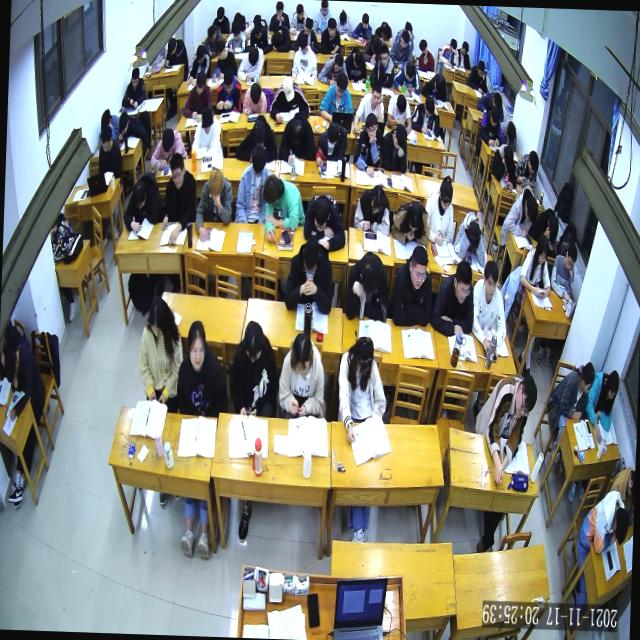bow: (259, 171, 306, 247), (302, 189, 348, 250), (122, 170, 162, 237), (277, 110, 318, 168), (235, 110, 279, 163), (389, 196, 432, 248), (269, 72, 311, 125), (452, 209, 489, 267), (501, 184, 538, 238), (148, 125, 189, 173), (316, 50, 348, 86), (392, 59, 421, 98), (530, 204, 560, 240), (115, 109, 146, 142), (420, 71, 448, 104), (477, 88, 505, 117), (164, 36, 188, 68), (360, 31, 384, 63), (270, 22, 292, 56), (372, 15, 392, 44)
down: (1, 332, 47, 422), (288, 331, 313, 379), (513, 372, 538, 419), (242, 318, 265, 366), (145, 296, 169, 340), (451, 258, 473, 304), (353, 334, 374, 378), (357, 258, 380, 296), (262, 172, 285, 208), (300, 237, 321, 276), (610, 505, 629, 545), (249, 144, 268, 180), (312, 196, 330, 232), (207, 167, 224, 201), (4, 343, 20, 379), (130, 180, 148, 212), (602, 370, 618, 403), (369, 182, 385, 215), (406, 200, 422, 233), (580, 358, 595, 393), (288, 116, 304, 146), (438, 178, 453, 210), (466, 219, 482, 249), (391, 122, 407, 151), (250, 117, 266, 146), (160, 125, 176, 154), (534, 234, 548, 266), (280, 74, 296, 102), (200, 104, 214, 136), (523, 195, 538, 224), (564, 240, 578, 270), (333, 70, 348, 98), (99, 126, 113, 154), (545, 214, 559, 242), (526, 150, 540, 176), (222, 66, 235, 94), (370, 80, 383, 108), (326, 120, 340, 146), (194, 68, 206, 96), (117, 110, 129, 136), (213, 38, 226, 62), (248, 82, 262, 104), (422, 94, 436, 116), (502, 142, 514, 167), (398, 28, 411, 50), (403, 60, 416, 82), (394, 92, 406, 115), (488, 102, 499, 126), (230, 20, 242, 42), (247, 46, 259, 68), (297, 32, 309, 54), (325, 16, 337, 38), (194, 44, 205, 66), (166, 36, 178, 56), (506, 118, 516, 142), (252, 20, 264, 40), (332, 52, 344, 72), (432, 74, 444, 94), (492, 88, 504, 107), (369, 36, 381, 55), (130, 66, 140, 88), (206, 22, 217, 42), (351, 50, 363, 68), (418, 37, 430, 55), (476, 58, 486, 78), (303, 16, 313, 36), (338, 7, 348, 27), (360, 12, 370, 32), (216, 5, 226, 24), (274, 1, 284, 20), (294, 2, 304, 21), (448, 37, 457, 56), (460, 40, 470, 56), (319, 0, 329, 16)
lookup: (184, 318, 208, 370), (406, 244, 429, 290), (168, 152, 186, 190), (482, 260, 499, 300), (363, 110, 379, 140), (379, 44, 389, 68)
sit: (472, 367, 538, 485), (136, 290, 187, 410), (335, 333, 388, 445), (174, 316, 228, 418), (226, 319, 280, 419), (276, 326, 329, 416), (386, 242, 434, 330), (282, 235, 334, 316), (574, 483, 630, 553), (159, 150, 198, 248), (342, 246, 390, 325), (469, 257, 508, 354), (430, 255, 476, 337), (232, 142, 274, 225), (546, 356, 596, 421), (192, 166, 234, 243), (584, 368, 619, 442), (422, 173, 456, 245), (518, 234, 553, 300), (352, 110, 384, 179), (189, 101, 225, 160), (352, 182, 392, 234), (319, 68, 357, 121), (351, 78, 385, 136), (314, 114, 348, 168), (182, 69, 214, 122), (550, 238, 578, 298), (214, 65, 244, 117), (409, 91, 442, 138), (490, 138, 518, 191), (96, 122, 124, 174), (381, 122, 408, 174), (290, 28, 319, 74), (385, 91, 414, 136), (513, 148, 540, 193), (370, 43, 396, 88), (478, 100, 504, 145), (236, 44, 265, 84), (212, 36, 238, 80), (186, 42, 212, 85), (122, 63, 146, 107), (240, 80, 268, 116), (245, 18, 272, 54), (294, 16, 320, 53), (389, 28, 414, 66), (319, 16, 343, 55), (343, 43, 368, 80), (224, 18, 248, 55), (267, 0, 291, 36), (201, 22, 224, 58), (467, 56, 489, 92), (350, 10, 374, 42), (311, 1, 332, 36), (416, 37, 436, 73), (438, 35, 461, 66), (499, 118, 519, 152), (210, 2, 230, 34), (290, 1, 308, 36), (336, 6, 354, 34), (456, 40, 472, 70)
